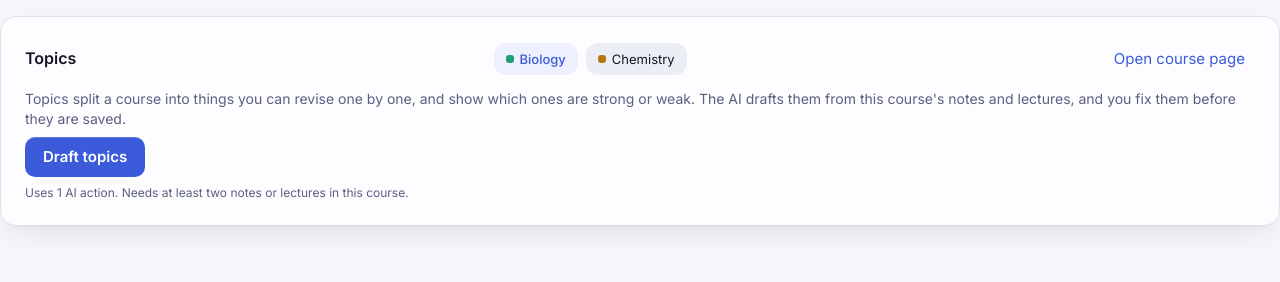
Test: Topics section › shows the AI's refusals in plain words, with no editor
Click the button "Draft topics" at (85, 157), box [25, 137, 145, 177]
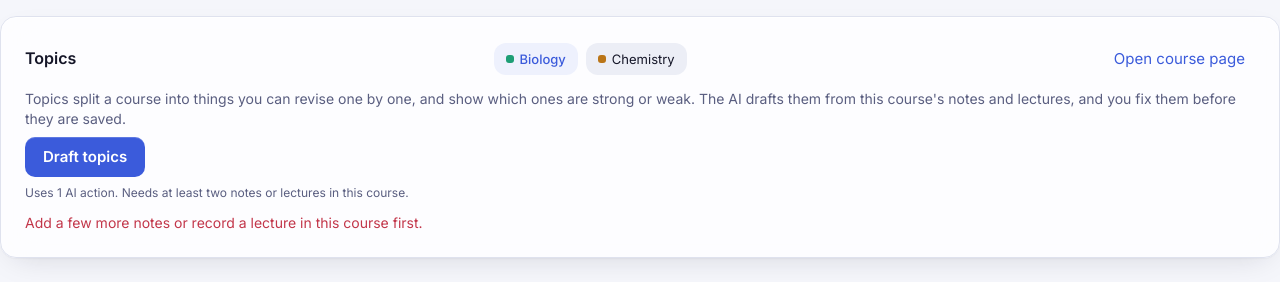
Expected: the message shows "Add a few more notes", [25, 214, 423, 231]
